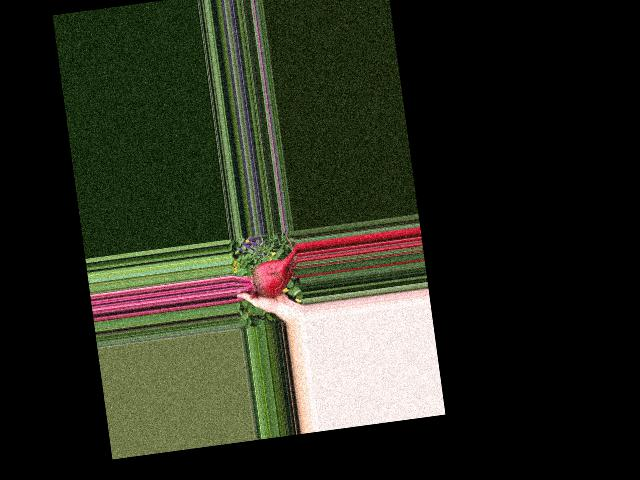beet: (230, 244, 302, 301)
